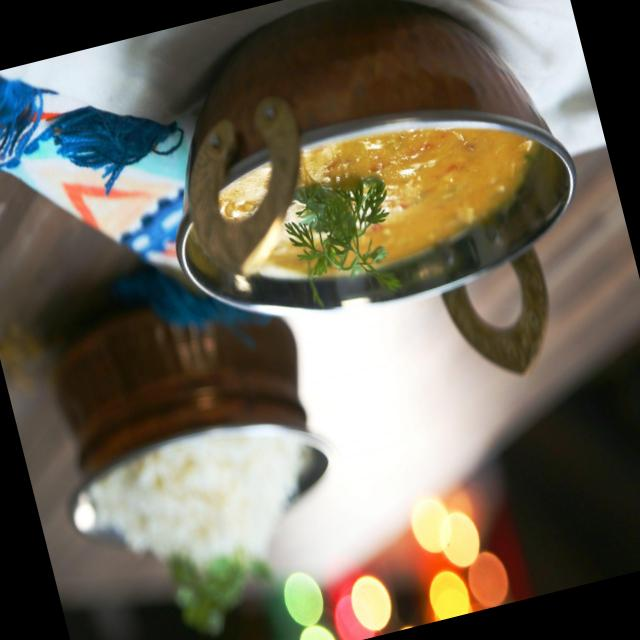dal: (170, 96, 560, 318)
rice: (73, 410, 334, 616)
